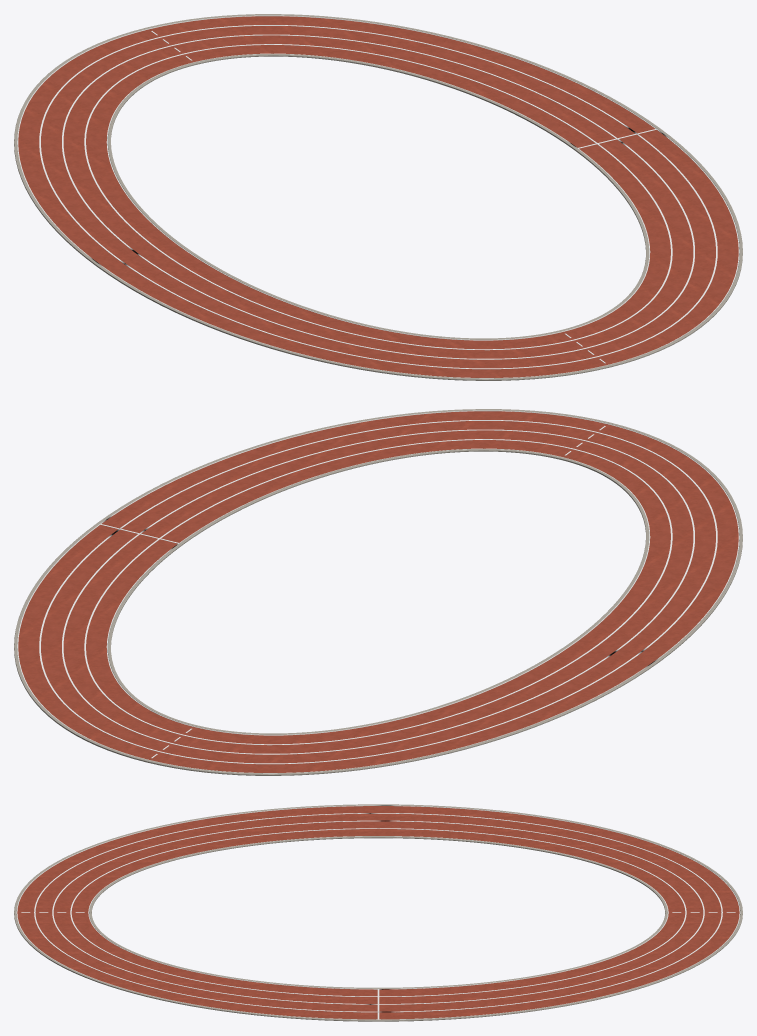
The model's file is ov-track.glb.
3 views of the same model, one above another, from view 1: azimuth 30°, elevation 25°; view 2: azimuth 150°, elevation 25°; view 3: azimuth 270°, elevation 25° (orthographic). The views are drawn at different scales.
Visible parts, largest first — view 1: track_ring, track_curb_outer, track_curb_inner, track_lane_line_3, track_lane_line_2, track_lane_line_1, track_edge_line_outer, track_edge_line_inner; view 2: track_ring, track_curb_outer, track_curb_inner, track_lane_line_3, track_lane_line_2, track_lane_line_1, track_edge_line_outer, track_edge_line_inner; view 3: track_ring, track_curb_outer, track_curb_inner, track_lane_line_3, track_lane_line_2, track_lane_line_1, track_edge_line_outer, track_edge_line_inner.
Part boxes in pixels (<box>): track_ring: <box>18,16,738,377</box>; track_curb_outer: <box>14,14,742,380</box>; track_curb_inner: <box>107,53,649,339</box>; track_lane_line_3: <box>39,25,717,369</box>; track_lane_line_2: <box>62,34,694,359</box>; track_lane_line_1: <box>84,44,672,350</box>; track_edge_line_outer: <box>17,15,739,378</box>; track_edge_line_inner: <box>106,53,650,340</box>; track_ring: <box>18,411,738,772</box>; track_curb_outer: <box>14,409,742,775</box>; track_curb_inner: <box>107,448,649,734</box>; track_lane_line_3: <box>39,420,717,764</box>; track_lane_line_2: <box>62,429,694,754</box>; track_lane_line_1: <box>84,439,672,745</box>; track_edge_line_outer: <box>17,410,739,773</box>; track_edge_line_inner: <box>106,448,650,735</box>; track_ring: <box>17,806,739,1019</box>; track_curb_outer: <box>14,804,742,1021</box>; track_curb_inner: <box>89,836,667,988</box>; track_lane_line_3: <box>34,813,722,1012</box>; track_lane_line_2: <box>52,820,704,1004</box>; track_lane_line_1: <box>70,828,686,996</box>; track_edge_line_outer: <box>16,805,740,1019</box>; track_edge_line_inner: <box>88,836,668,989</box>.
Size of the model in its own units: 56.6 by 0.15 by 80.6.
3 materials, 3 textured.
